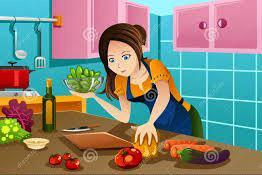bottle: (39, 77, 59, 131)
person: (62, 22, 199, 144)
